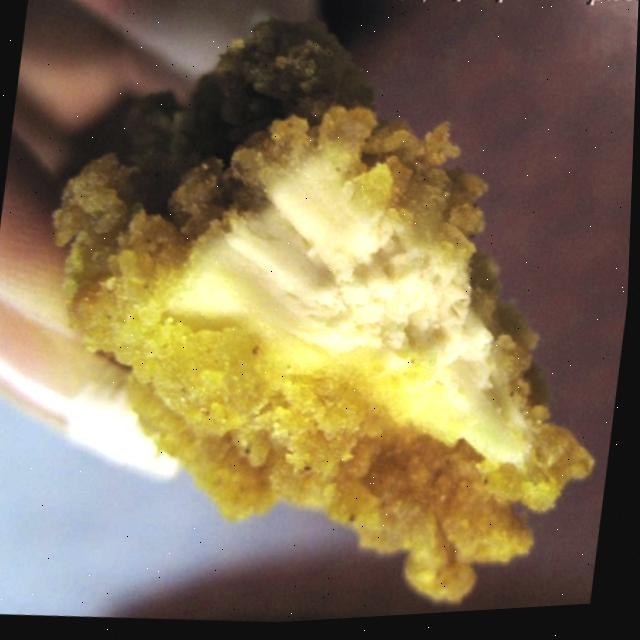鸡肉料理 含炸鸡: (25, 0, 639, 632)
